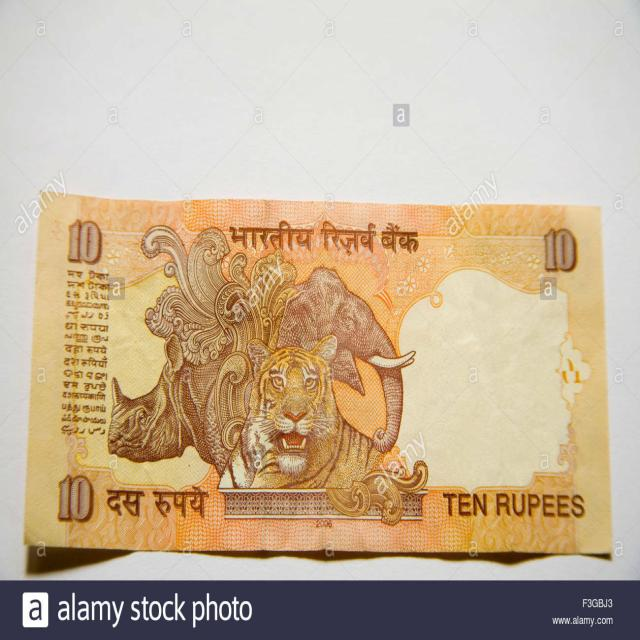10IndianRupees: (37, 207, 601, 553), (36, 209, 436, 553), (220, 208, 611, 542)
